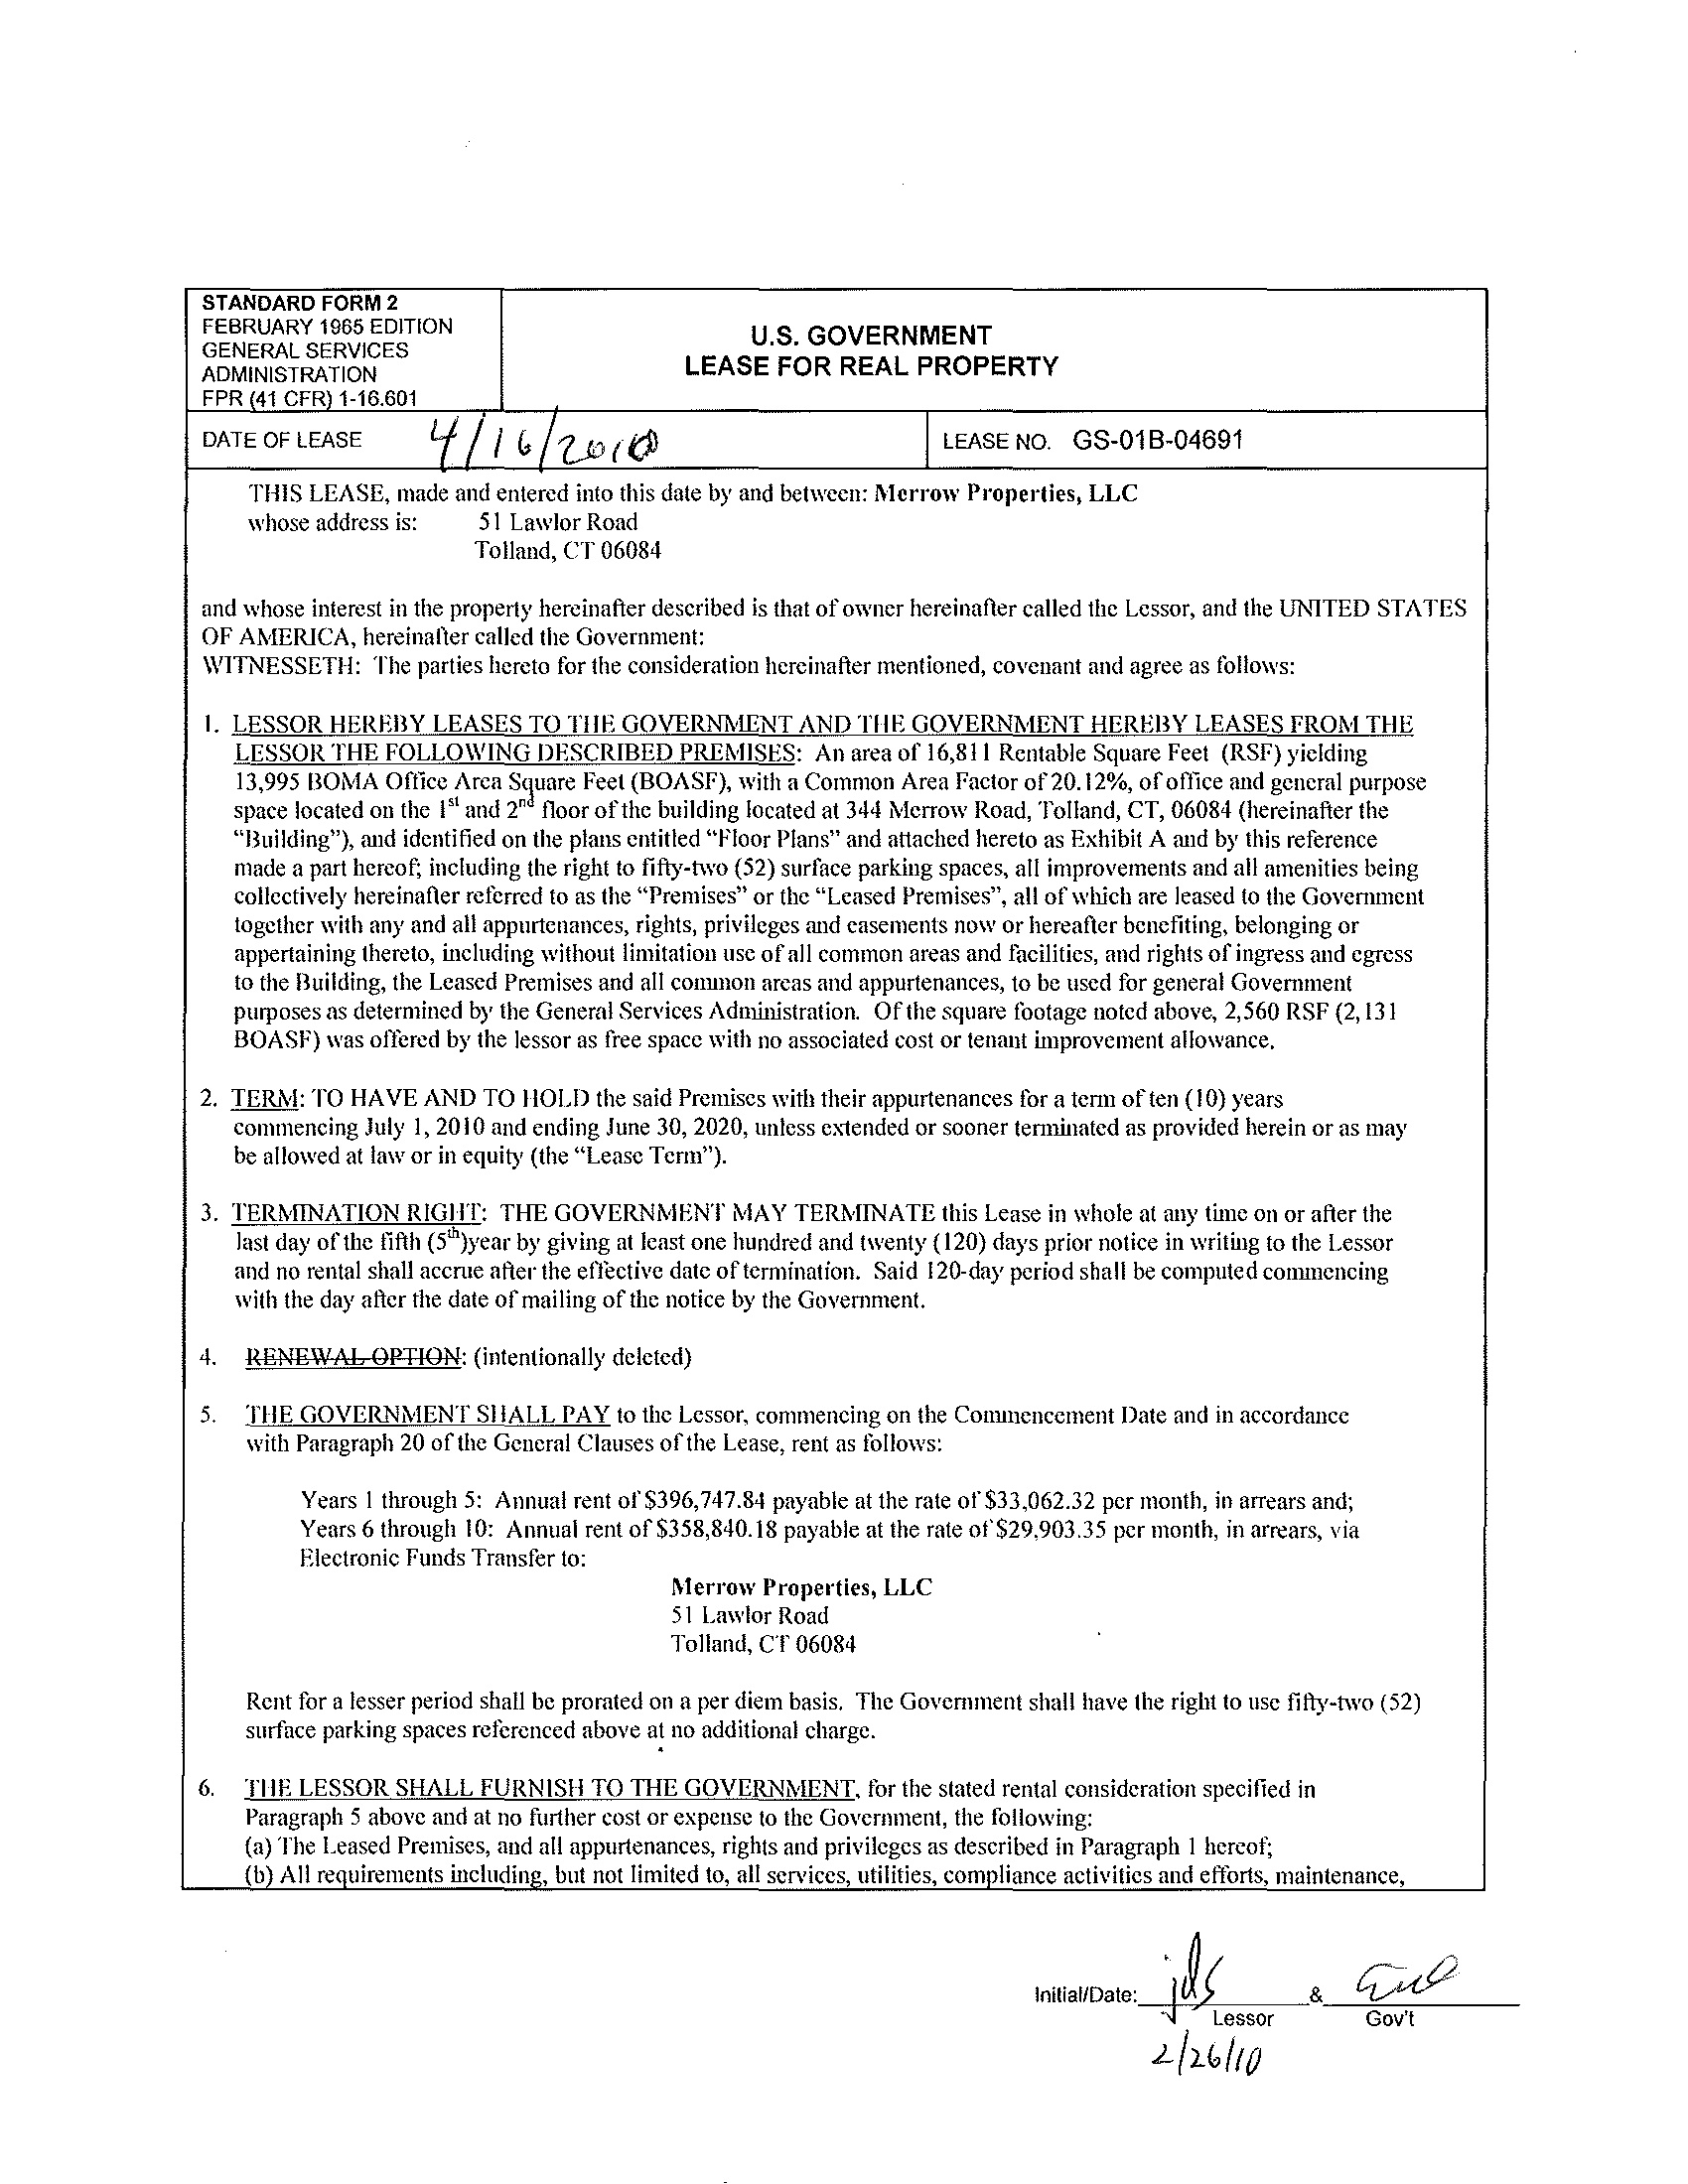handwritten: (420, 411, 692, 473), (1330, 1916, 1505, 2005), (1144, 1922, 1236, 2039), (1117, 2040, 1287, 2092)
